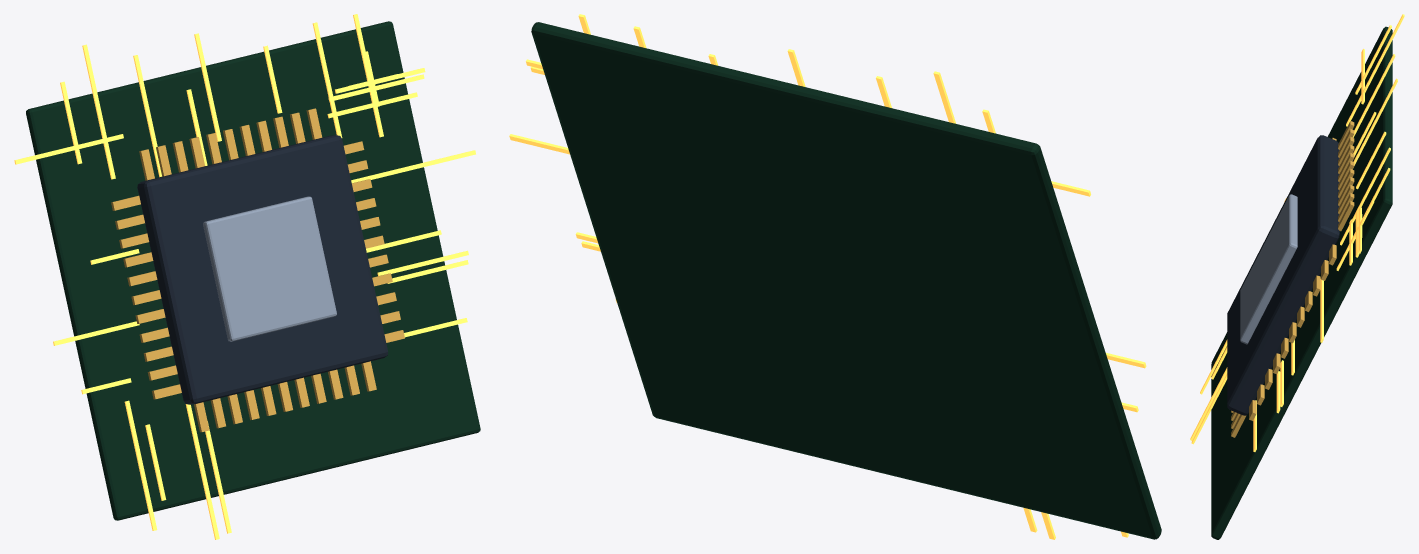
The model's file is astraos.glb.
3 views of the same model, side by side, from view 1: azimuth 30°, elevation 25°; view 2: azimuth 150°, elevation 25°; view 3: azimuth 270°, elevation 25° (orthographic). The views are drawn at different scales.
Parts seen in each view (by area): view 1: Cube, Cube.027, Cube.028, Cube.012, Cube.007, Cube.005, Cube.019, Cube.011, Cube.025, Cube.009, Cube.001, Cube.026 (+1 smaller); view 2: Cube; view 3: Cube, Cube.027, Cube.028, Cube.007, Cube.009, Cube.001, Cube.025, Cube.012, Cube.019.
Part boxes in pixels (bbox=[...]): Cube: bbox=[26, 21, 480, 520]; Cube.027: bbox=[137, 135, 388, 404]; Cube.028: bbox=[203, 196, 336, 341]; Cube.012: bbox=[185, 404, 219, 539]; Cube.007: bbox=[82, 44, 115, 179]; Cube.005: bbox=[124, 400, 157, 530]; Cube.019: bbox=[353, 14, 383, 137]; Cube.011: bbox=[351, 150, 475, 183]; Cube.025: bbox=[133, 55, 161, 177]; Cube.009: bbox=[312, 22, 342, 137]; Cube.001: bbox=[194, 33, 221, 141]; Cube.026: bbox=[205, 421, 231, 533]; Cube: bbox=[531, 22, 1161, 539]; Cube: bbox=[1211, 26, 1392, 539]; Cube.027: bbox=[1227, 135, 1339, 415]; Cube.028: bbox=[1240, 194, 1297, 344]; Cube.007: bbox=[1346, 14, 1404, 126]; Cube.009: bbox=[1340, 147, 1390, 245]; Cube.001: bbox=[1353, 78, 1397, 167]; Cube.025: bbox=[1352, 54, 1395, 137]; Cube.012: bbox=[1190, 367, 1227, 440]; Cube.019: bbox=[1336, 168, 1390, 270].
Bounding box in the file's own units: 2.89 × 2.65 × 1.24.
